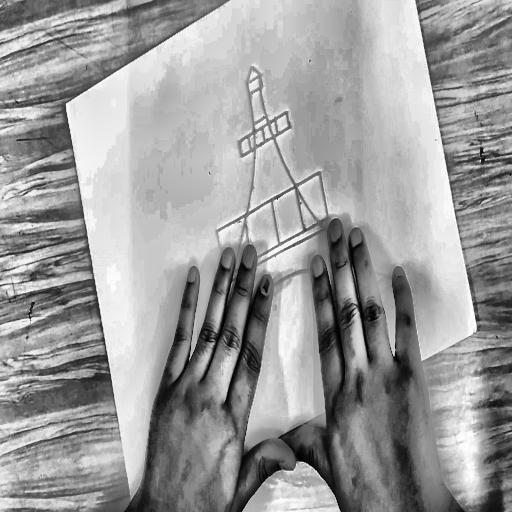bottom_right: (473, 326, 479, 336)
eiffel-tower: (125, 0, 425, 414)
top_left: (63, 99, 69, 109)
